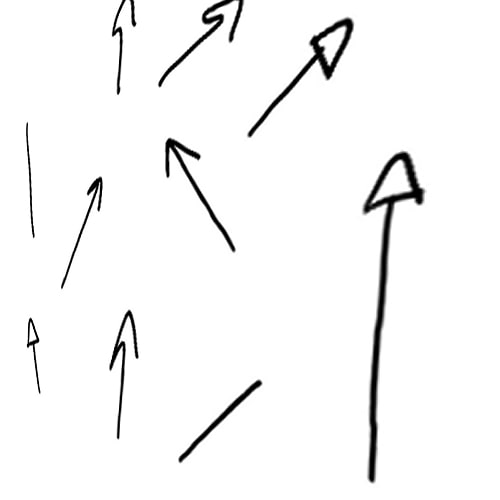arrow: (362, 151, 423, 483), (251, 18, 355, 133), (158, 139, 235, 252), (159, 2, 243, 85), (63, 175, 105, 288), (108, 309, 140, 434), (109, 1, 140, 91), (22, 315, 45, 393)
arrownohead: (181, 378, 263, 458), (21, 120, 41, 238)
